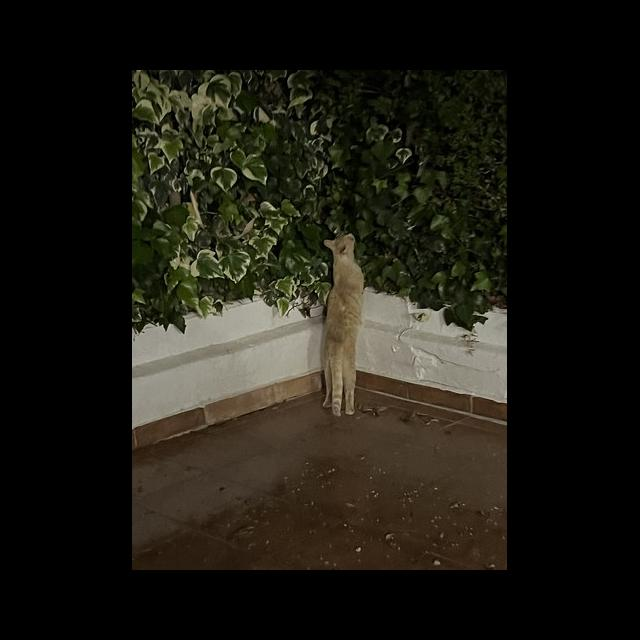animals: (323, 234, 365, 416)
